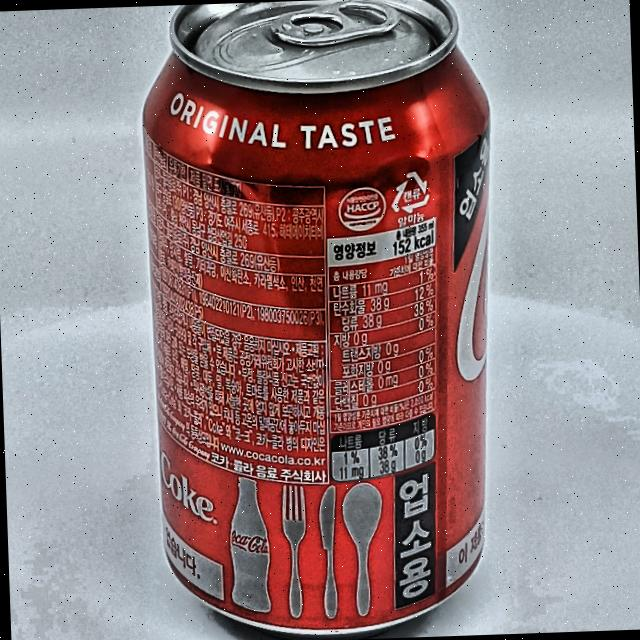cocacola: (157, 0, 516, 640)
